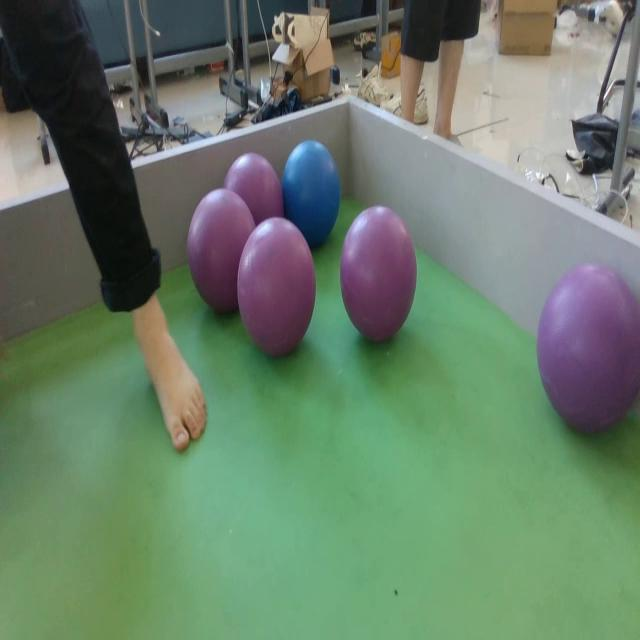blue: (283, 136, 341, 252)
invalid: (539, 268, 637, 434), (340, 205, 419, 338), (241, 218, 311, 351), (188, 188, 257, 317), (222, 152, 280, 218)
